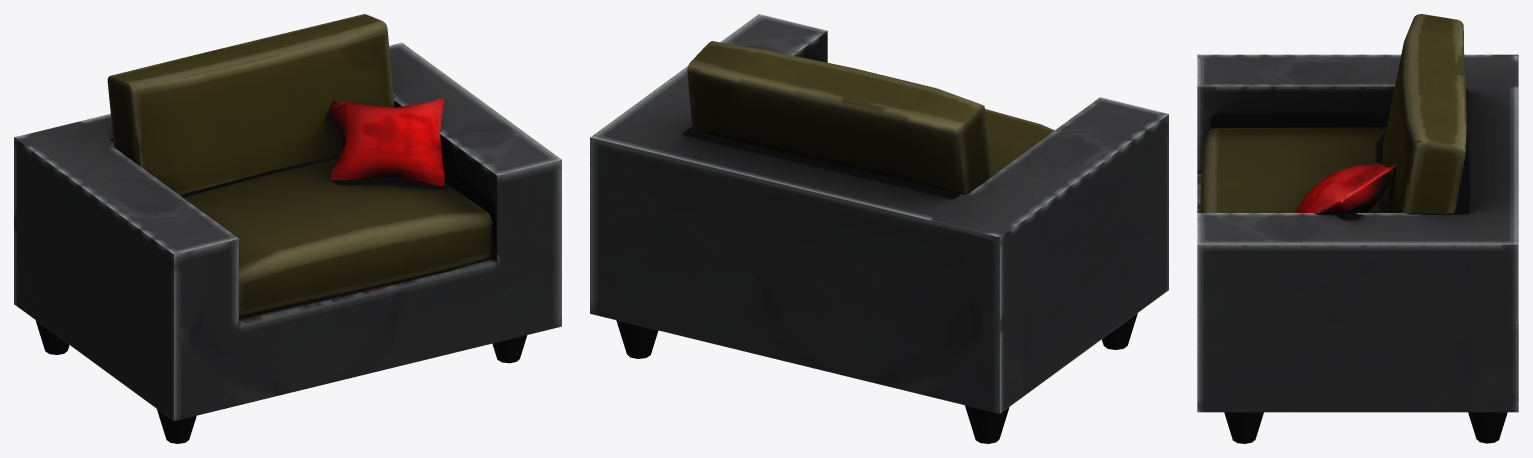
Rendered from RE_RLivingChair.FBX.
The picture shows the model from 3 angles, left to right: view 1: azimuth 30°, elevation 25°; view 2: azimuth 150°, elevation 25°; view 3: azimuth 270°, elevation 25°; orthographic projection. The views are drawn at different scales.
Visible parts, largest first — view 1: RE_RLivingChair; view 2: RE_RLivingChair; view 3: RE_RLivingChair.
Boxes of the visible parts, x1=… form: RE_RLivingChair: x1=14, y1=14, x2=561, y2=443; RE_RLivingChair: x1=590, y1=14, x2=1168, y2=443; RE_RLivingChair: x1=1197, y1=14, x2=1518, y2=443.
Bounding box in the file's own units: 87.45 × 60.77 × 62.39.
Materials: 3 (3 with a texture image).
